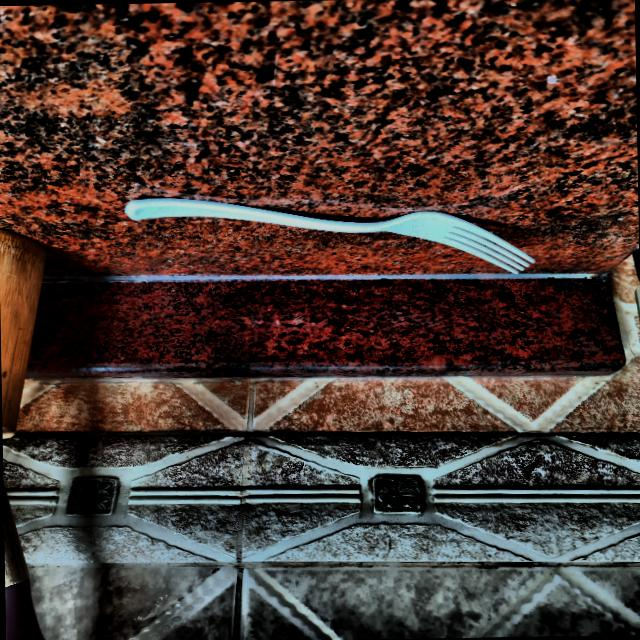plastic utensil: (121, 188, 531, 288)
